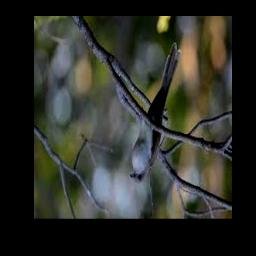Cuckoo: (129, 43, 181, 185)
